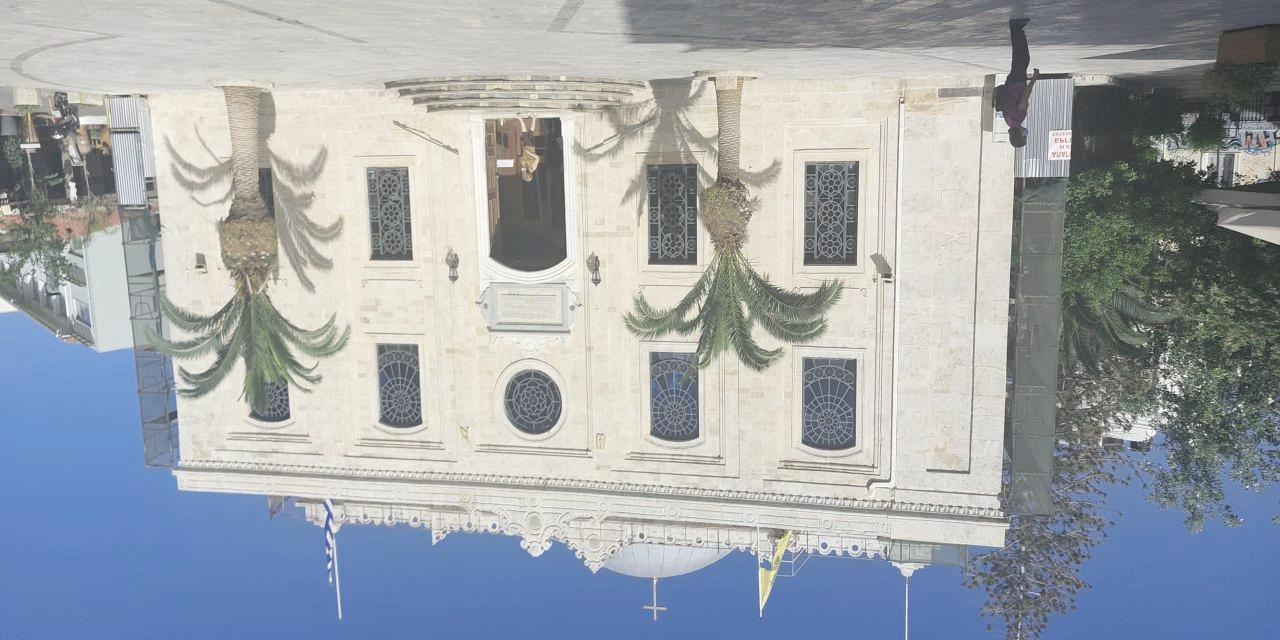Agios Titos: (145, 79, 1022, 588)
